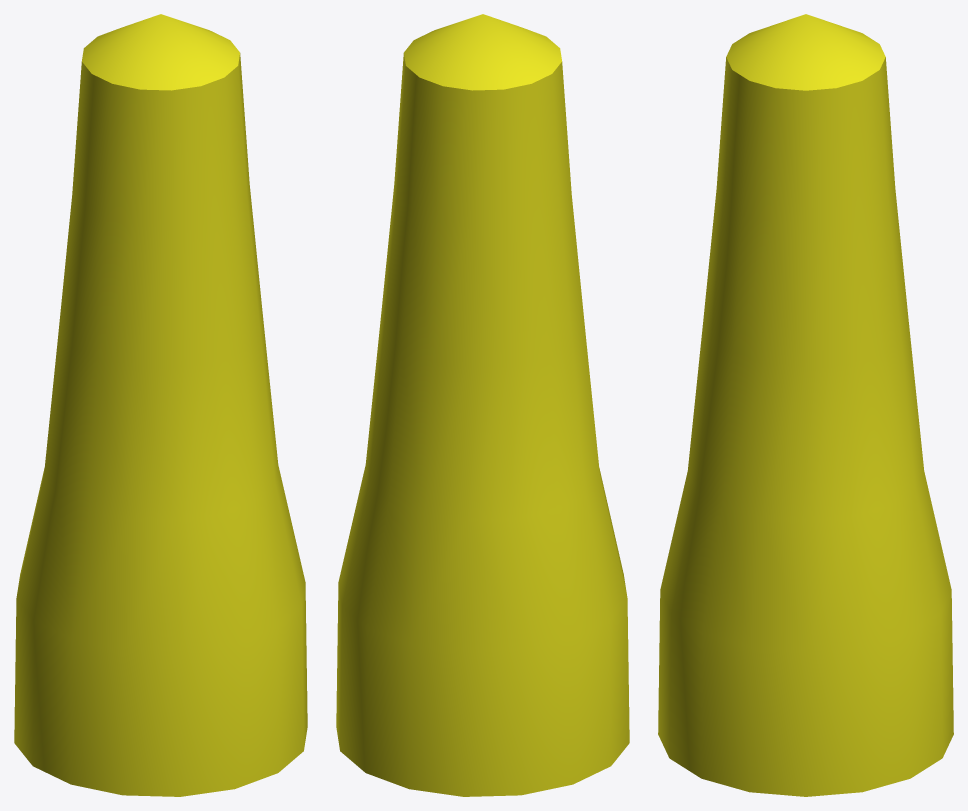
Rendered from playerbullet.obj.
3 renders of one model, left to right at view 1: azimuth 30°, elevation 25°; view 2: azimuth 150°, elevation 25°; view 3: azimuth 270°, elevation 25°, orthographic.
Visible parts, largest first — view 1: 円柱; view 2: 円柱; view 3: 円柱.
Part boxes in pixels (x1,y1,x2,y2): 円柱: (14,14,307,796); 円柱: (336,14,629,796); 円柱: (658,14,953,796).
Bounding box in the file's own units: 0.1046 × 0.2813 × 0.1046.
Materials: 1 (1 with a texture image).
